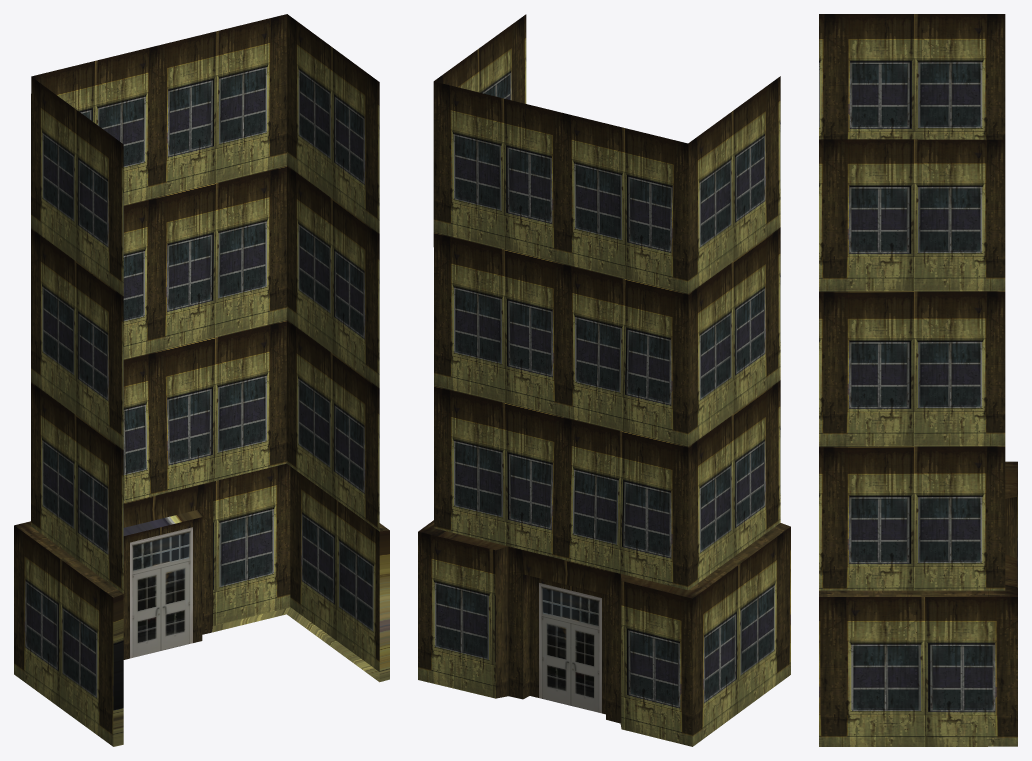
The model's file is Background_Building_9.fbx.
3 renders of one model, left to right at view 1: azimuth 30°, elevation 25°; view 2: azimuth 150°, elevation 25°; view 3: azimuth 270°, elevation 25°, orthographic.
Visible parts, largest first — view 1: Background_Building_9; view 2: Background_Building_9; view 3: Background_Building_9.
Part boxes in pixels (x1,y1,x2,y2): Background_Building_9: (14,14,389,746); Background_Building_9: (418,14,790,746); Background_Building_9: (819,14,1017,746).
Bounding box in the file's own units: 949 × 1969 × 589.
